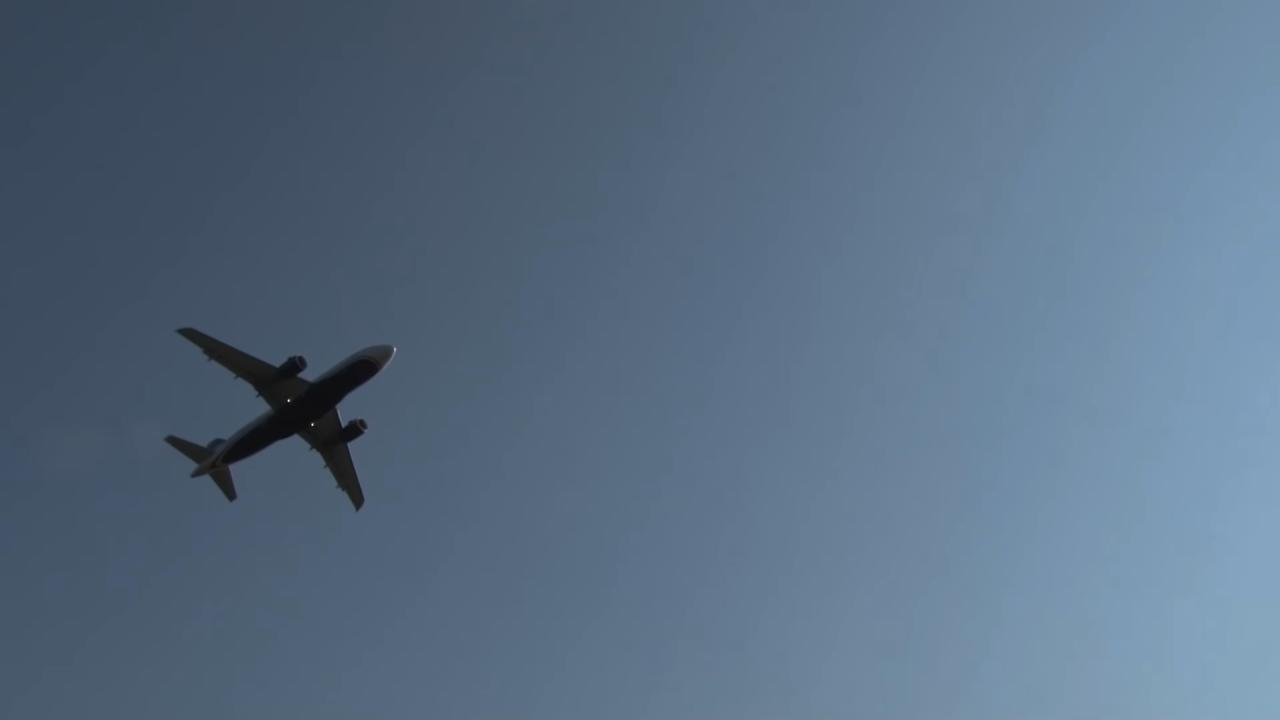Airplane: (150, 315, 408, 526)
